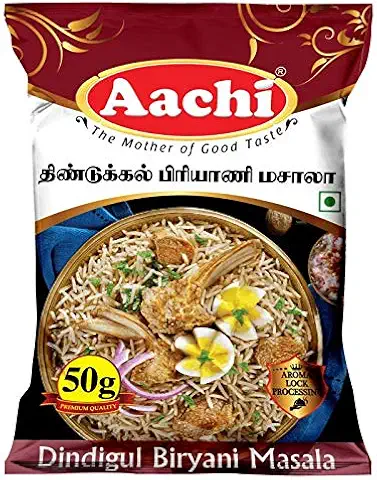Biryani: (5, 3, 377, 480)
